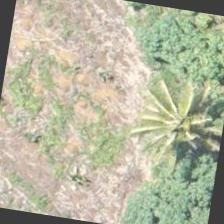Kelapa_Sawit: (121, 73, 223, 177)
